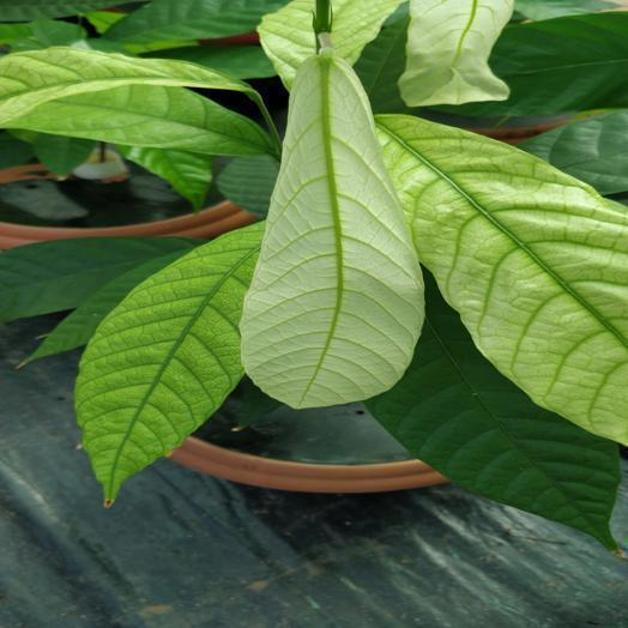Healthy Leaf: (367, 269, 618, 546), (461, 12, 627, 117), (0, 237, 200, 322), (26, 254, 181, 363), (519, 110, 627, 195), (108, 0, 288, 42), (118, 145, 211, 210), (217, 156, 278, 216)
Iron: (378, 116, 627, 443), (240, 48, 423, 406), (75, 224, 260, 504), (0, 47, 273, 154), (398, 0, 512, 103), (258, 0, 317, 87), (323, 1, 401, 64)
